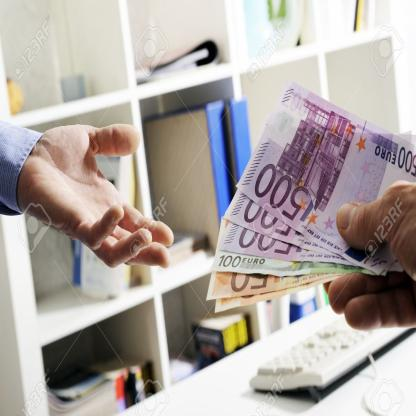billete: (204, 78, 416, 312)
